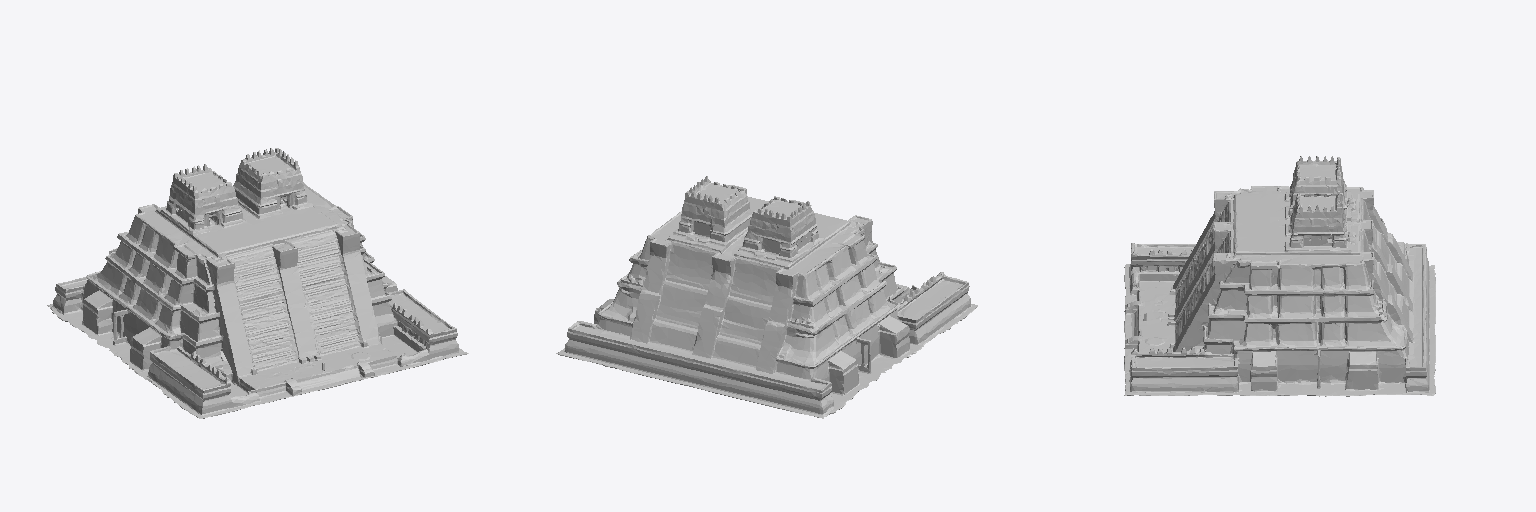
Rendered from Tenochtitlan_Temple_M_1124051158_texture.obj.
3 views of the same model, side by side, from view 1: azimuth 30°, elevation 25°; view 2: azimuth 150°, elevation 25°; view 3: azimuth 270°, elevation 25° (orthographic).
Parts seen in each view (by area): view 1: Tenochtitlan_Temple_M_[number redacted]_texture; view 2: Tenochtitlan_Temple_M_[number redacted]_texture; view 3: Tenochtitlan_Temple_M_[number redacted]_texture.
Part boxes in pixels (x1,y1,x2,y2): Tenochtitlan_Temple_M_[number redacted]_texture: (47,148,468,418); Tenochtitlan_Temple_M_[number redacted]_texture: (556,176,977,418); Tenochtitlan_Temple_M_[number redacted]_texture: (1124,156,1435,396).
Bounding box in the file's own units: 18.67 × 10 × 18.54.